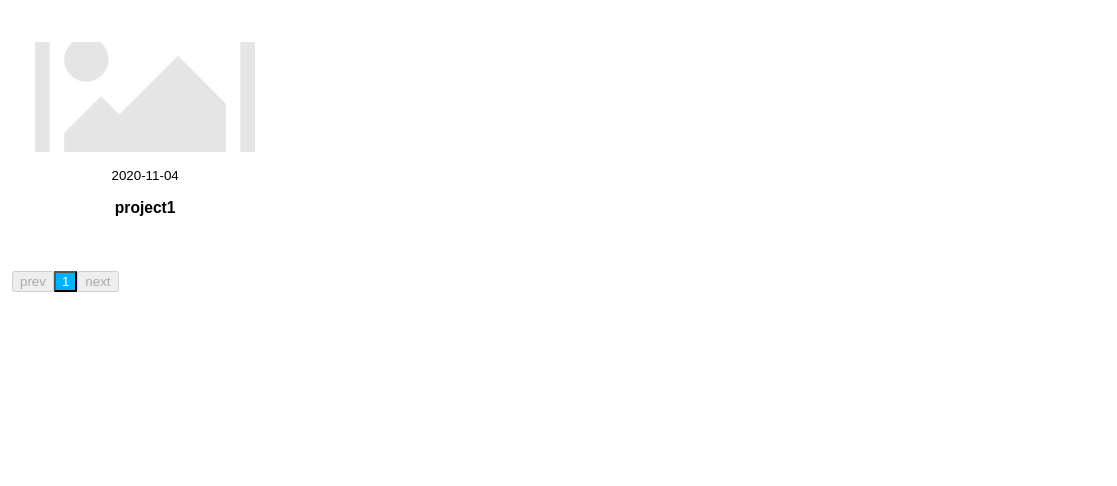
Component exit button can be clicked
Click the heading "project1" at (145, 207), box [115,199,176,216]
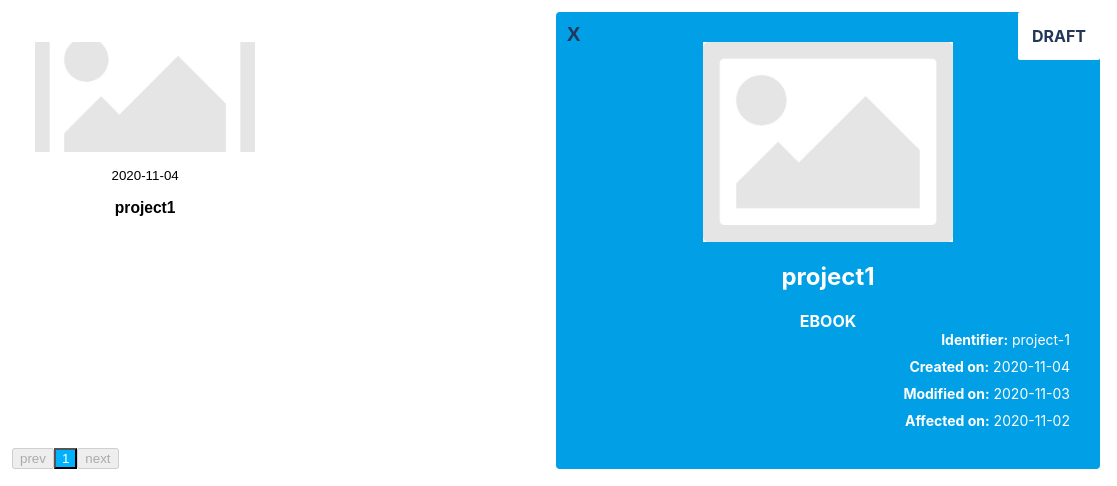
Click the button "X" at (574, 34), box [561,22,586,47]
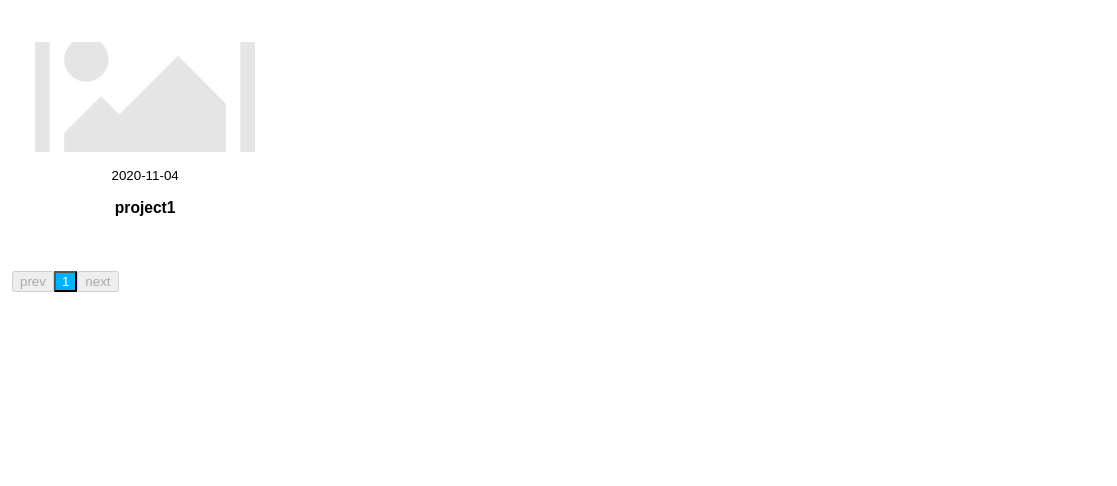
Result: the text "2020-11-02" is gone
